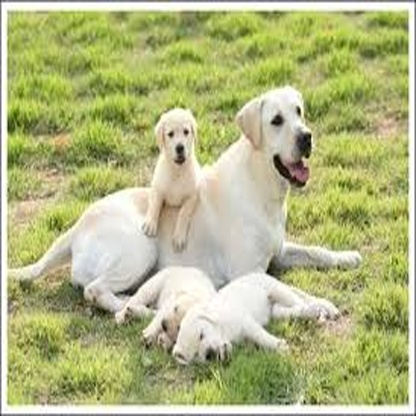guide-dog: (68, 92, 323, 302), (185, 267, 334, 357), (131, 102, 205, 242), (126, 263, 217, 343)
